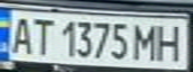1: (54, 17, 78, 57)
3: (72, 18, 96, 58)
5: (109, 20, 133, 61)
7: (90, 19, 112, 60)
A: (6, 13, 36, 55)
H: (151, 20, 187, 62)
M: (130, 20, 163, 62)
T: (27, 15, 54, 56)
